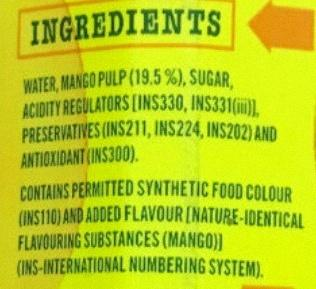ingredients: (2, 0, 313, 289)
